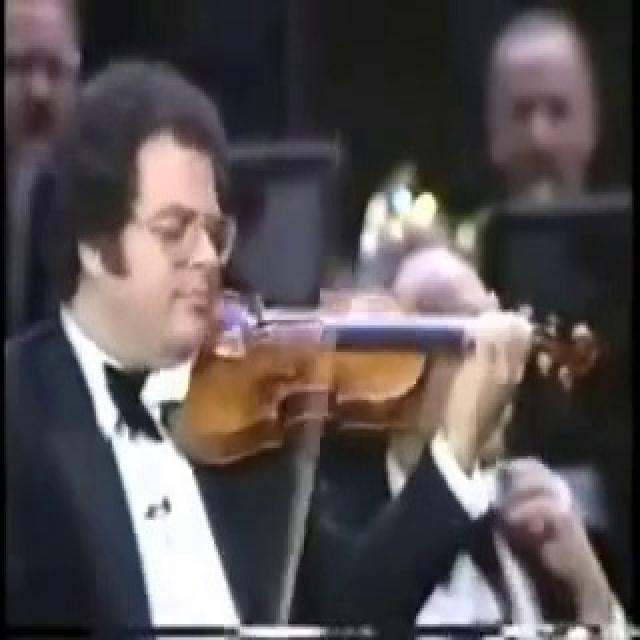Violin: (186, 286, 605, 459)
